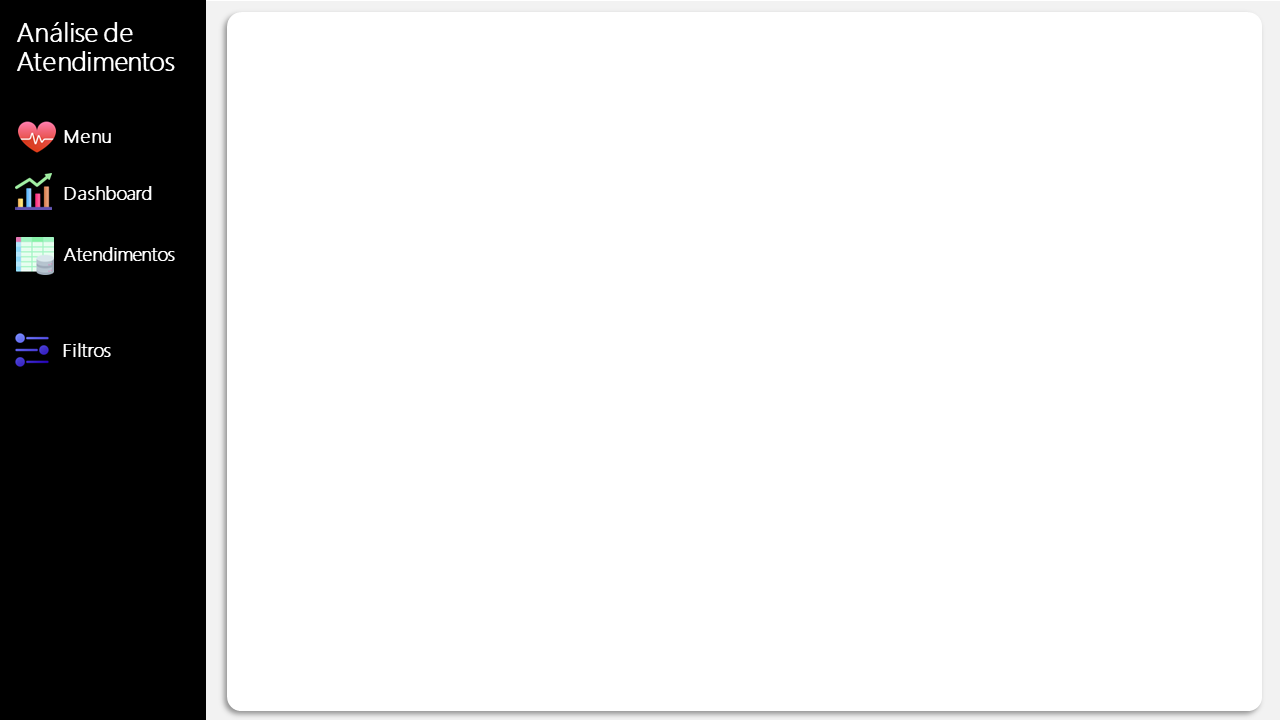

What the dashboard file says about the page in this screenshot:
{"tool":"powerbi","page":{"name":"Atendimentos","canvas":[1280,720],"ordinal":2},"visuals":[{"type":"image","box":[10,0,1270,720],"z":0},{"type":"tableEx","fields":{"Values":["Atendimentos.COD Consulta","Calendário.Data.Variation.Hierarquia de datas.Ano","Calendário.Data.Variation.Hierarquia de datas.Mês","Calendário.Data.Variation.Hierarquia de datas.Dia","Médicos.Nome Médico","Atendimentos.Tipo Atendimento","Tabela de Valores.Procedimento","Tabela de Valores.Tipo pagamento","Tabela de Valores.Valor"]},"box":[238.6,18.6,1014.3,690],"z":1000},{"type":"slicer","fields":{"Values":["Médicos.Nome Médico"]},"box":[15.7,380,208.6,82.9],"z":2000},{"type":"slicer","fields":{"Values":["Atendimentos.Tipo Atendimento"]},"box":[15.7,478.6,208.6,82.9],"z":3000},{"type":"slicer","fields":{"Values":["Calendário.Ano","Calendário.Mês"]},"box":[15.7,585.7,208.6,82.9],"z":4000},{"type":"actionButton","box":[15.7,115.7,198.6,48.6],"z":4001},{"type":"actionButton","box":[12.9,167.1,198.6,48.6],"z":4002},{"type":"actionButton","box":[15.7,235.7,198.6,48.6],"z":4003}]}

Visuals, with their boxes on the page's 1280x720 design canvas (x1, y1, x2, y2). These are canvas units, not pixel positions in the 1280x720 screenshot, which may show the page scaled, cropped or inside an application window:
image: [left=10, top=0, right=1280, bottom=720]
tableEx - Atendimentos.COD Consulta x Calendário.Data.Variation.Hierarquia de datas.Ano: [left=239, top=19, right=1253, bottom=709]
slicer - Médicos.Nome Médico: [left=16, top=380, right=224, bottom=463]
slicer - Atendimentos.Tipo Atendimento: [left=16, top=479, right=224, bottom=562]
slicer - Calendário.Ano x Calendário.Mês: [left=16, top=586, right=224, bottom=669]
actionButton: [left=16, top=116, right=214, bottom=164]
actionButton: [left=13, top=167, right=212, bottom=216]
actionButton: [left=16, top=236, right=214, bottom=284]
